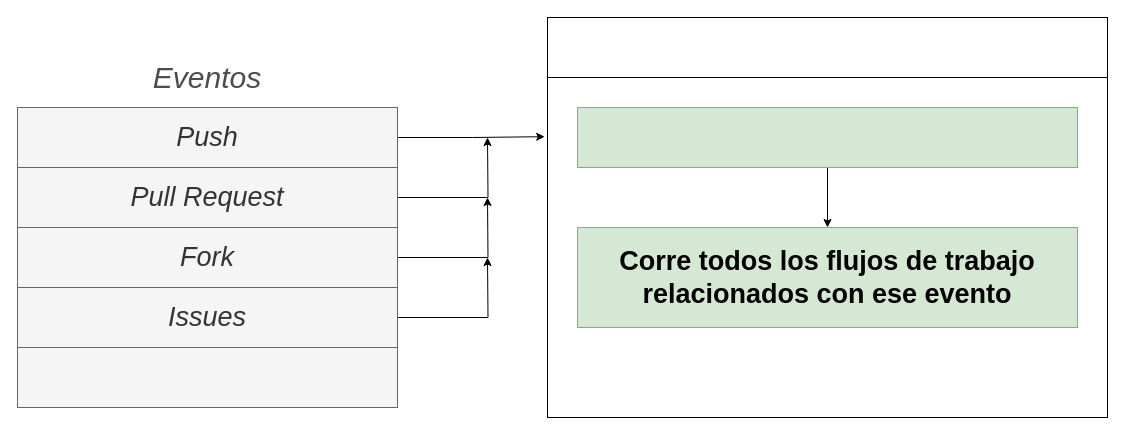
The diagram is 1125 pixels wide and 435 high, and some of its shapes have lost their labels. The shapes that lost their labels are listed below. From the top down, each one's centre as x and y in pixels, then its label:
the point at 827,47: Repositorio en Github
the point at 827,137: ¡Ocurrió un evento!
the point at 207,377: ¡Muchos más...!
